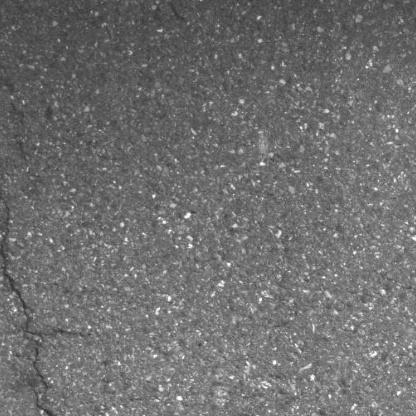Cracks: (0, 181, 79, 416)
